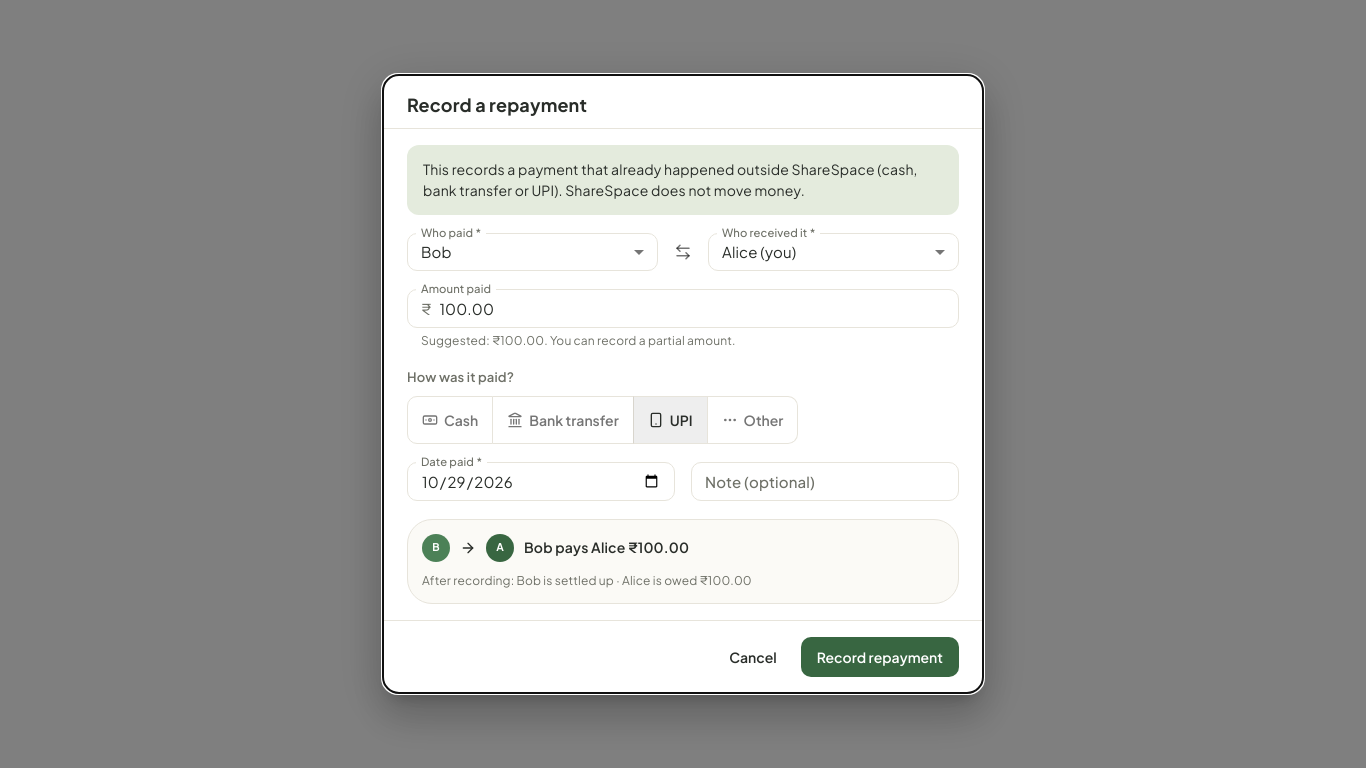
Test: settlement confirmation › prefills the suggestion and previews the remaining balances for a partial payment
Expected: the text "does not move money" is shown, [423, 160, 918, 199]
Clear the field labelled "Amount paid" at (699,309), box [439, 289, 959, 328]
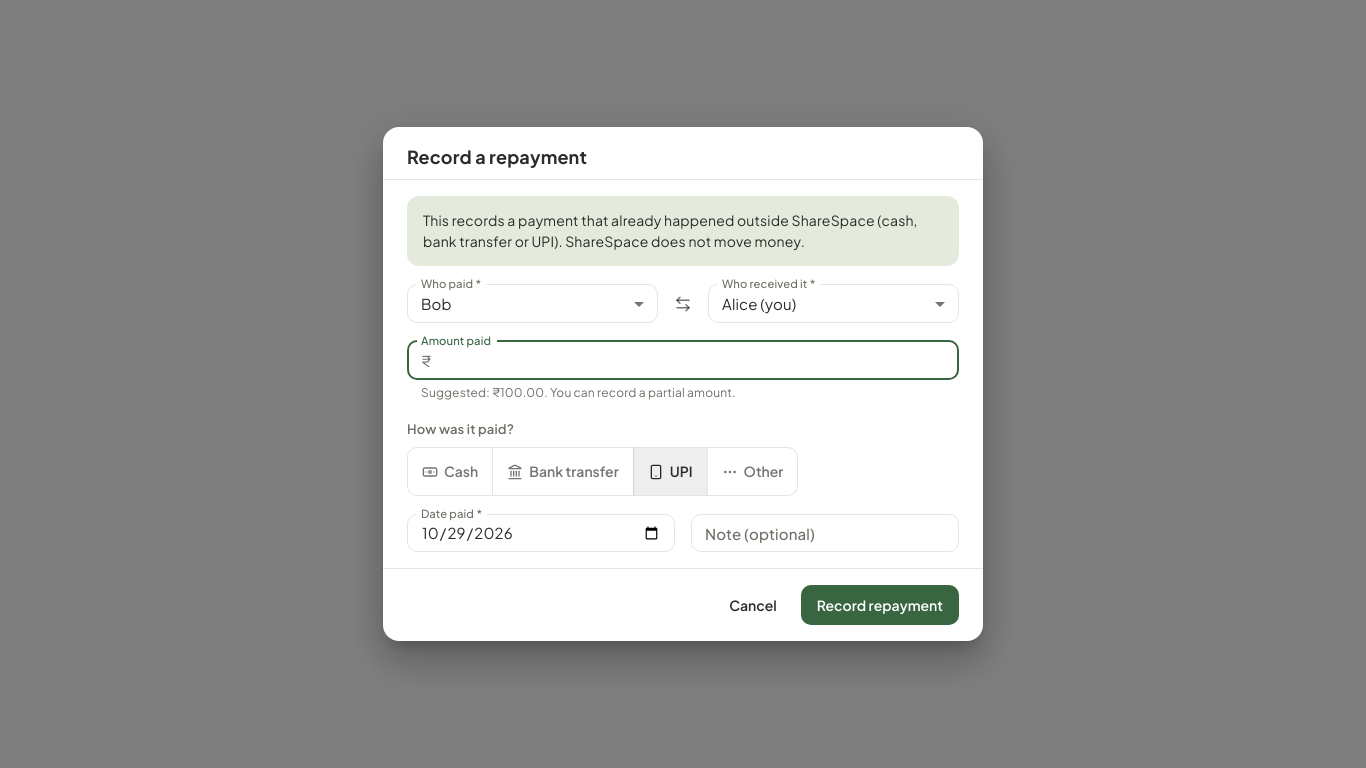
Type "40" into the field labelled "Amount paid" at (699,360), box [439, 341, 959, 380]
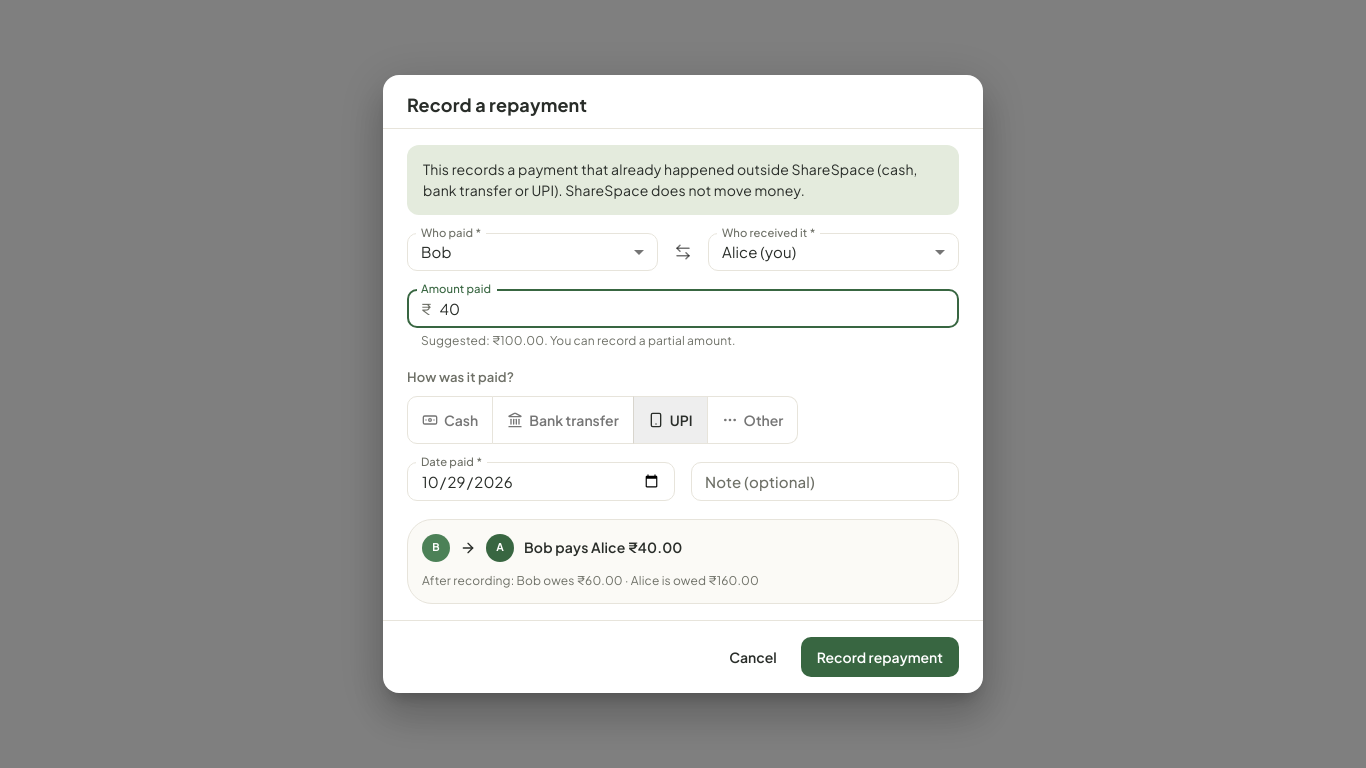
Now the text "After recording: Bob owes ₹60.00 · Alice is owed ₹160.00" is shown, box [422, 573, 759, 588]
